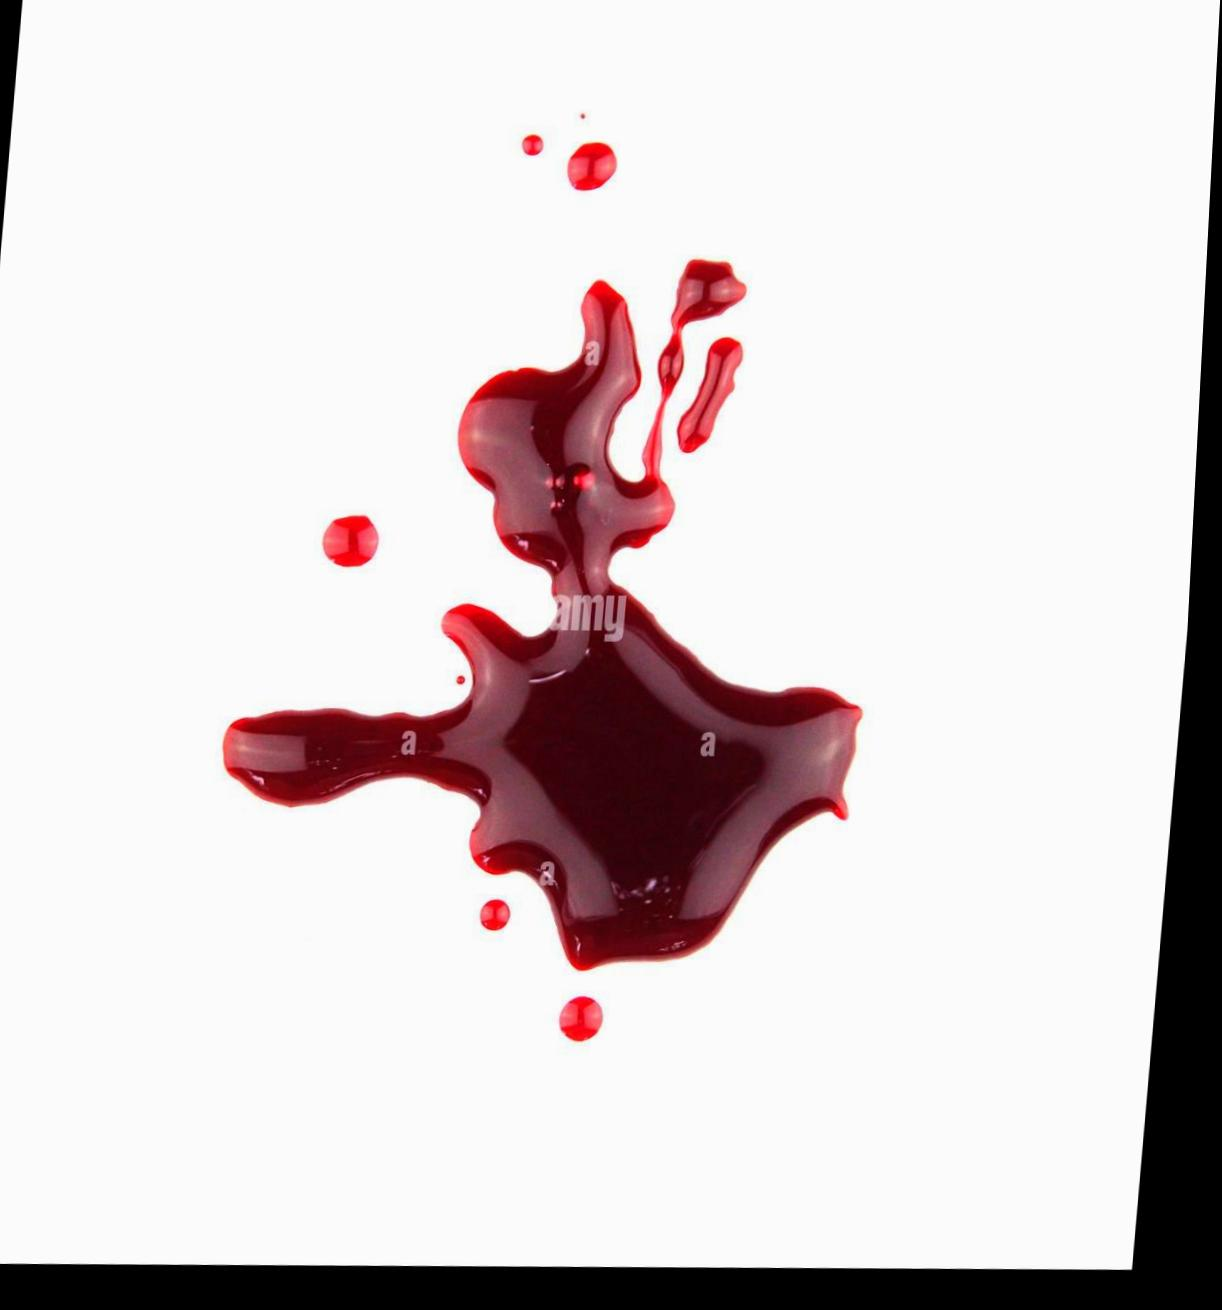Fire: (231, 263, 871, 975), (681, 340, 748, 457), (327, 517, 385, 568), (569, 146, 619, 193), (570, 999, 614, 1045), (489, 901, 520, 933)
